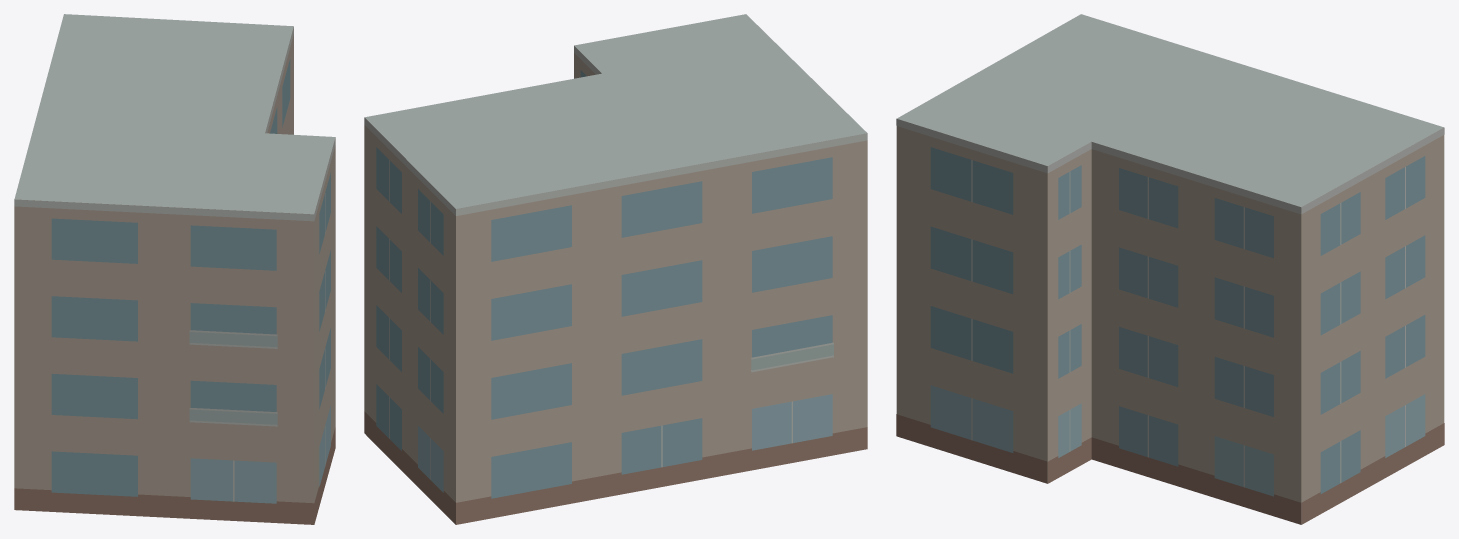
Rendered from survey-upis-32555462.glb.
3 renders of one model, left to right at view 1: azimuth 30°, elevation 25°; view 2: azimuth 150°, elevation 25°; view 3: azimuth 270°, elevation 25°, orthographic. The views are drawn at different scales.
Visible parts, largest first — view 1: survey-upis-32555462.tmp; view 2: survey-upis-32555462.tmp; view 3: survey-upis-32555462.tmp.
Boxes of the visible parts, x1=… form: survey-upis-32555462.tmp: x1=14, y1=14, x2=335, y2=524; survey-upis-32555462.tmp: x1=364, y1=14, x2=867, y2=524; survey-upis-32555462.tmp: x1=896, y1=14, x2=1444, y2=524.
Size of the model in its own units: 14.1 by 10.8 by 16.89.
